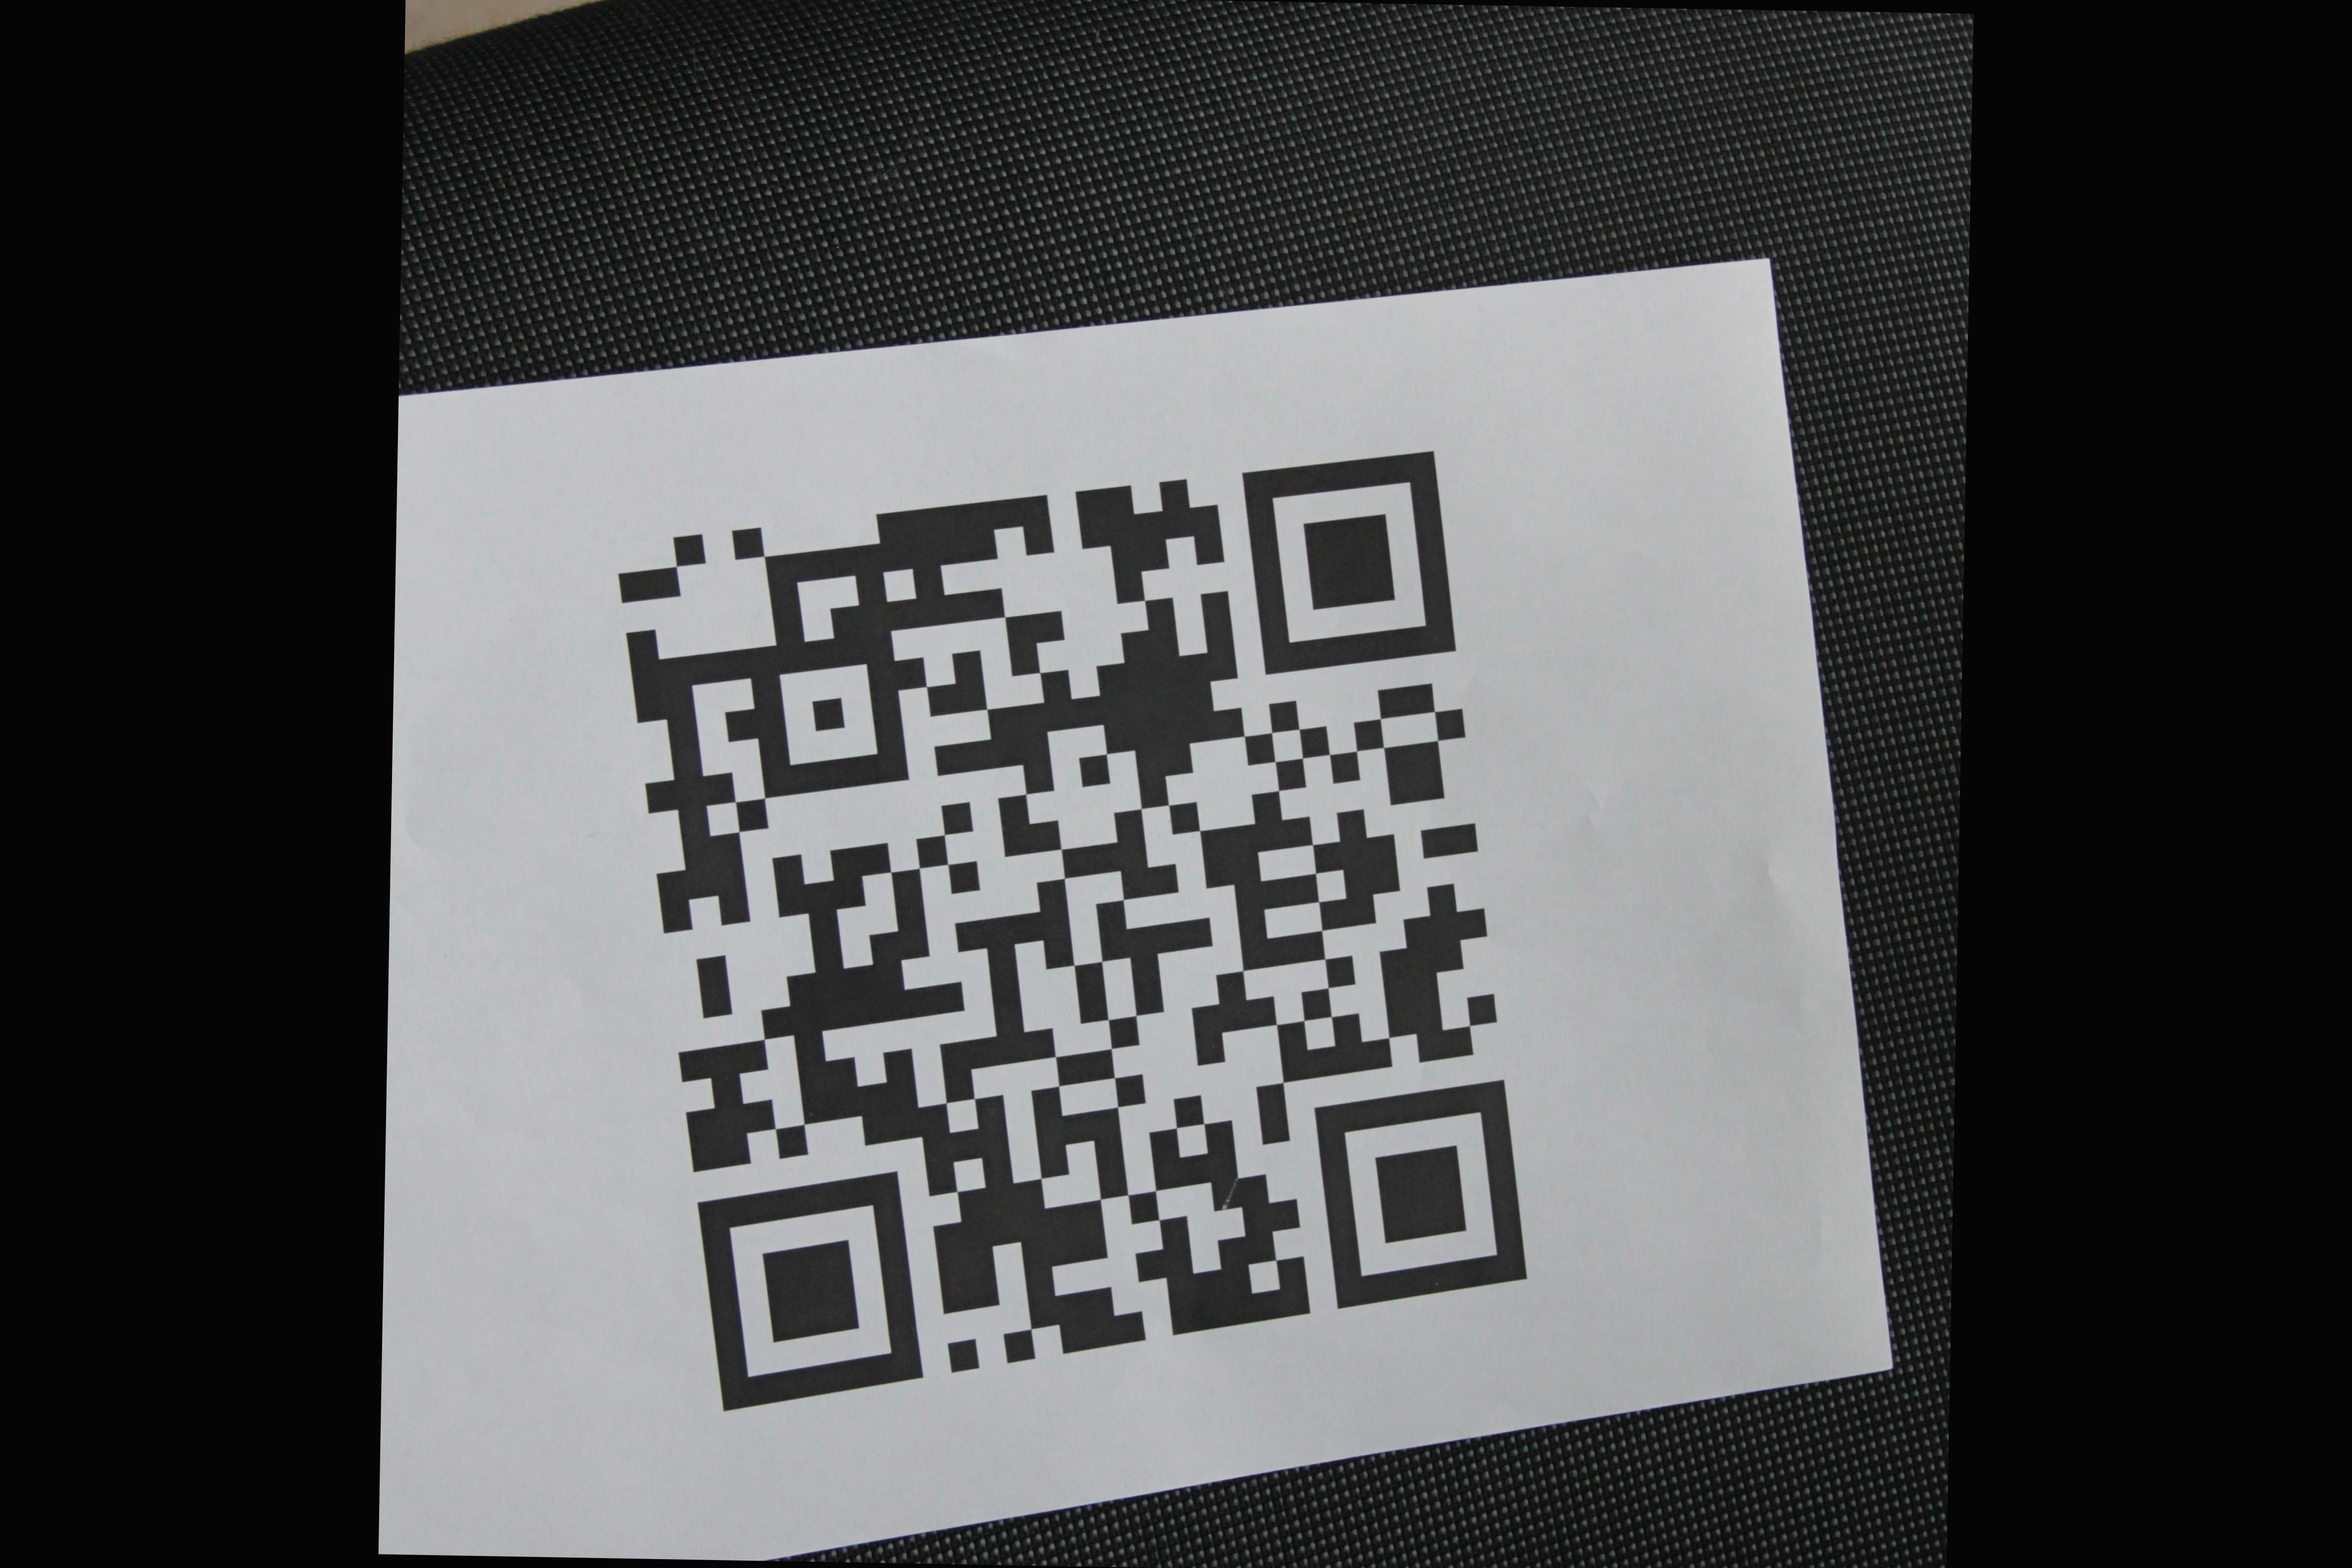QR: (605, 446, 1549, 1416)
